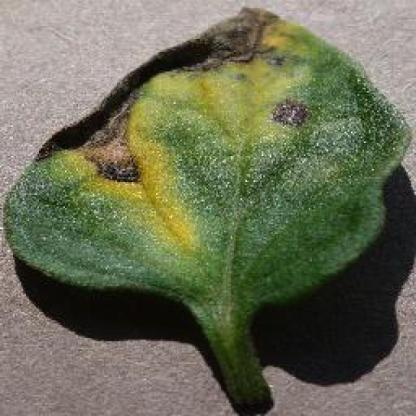Tomato_Blight: (4, 13, 405, 310)
